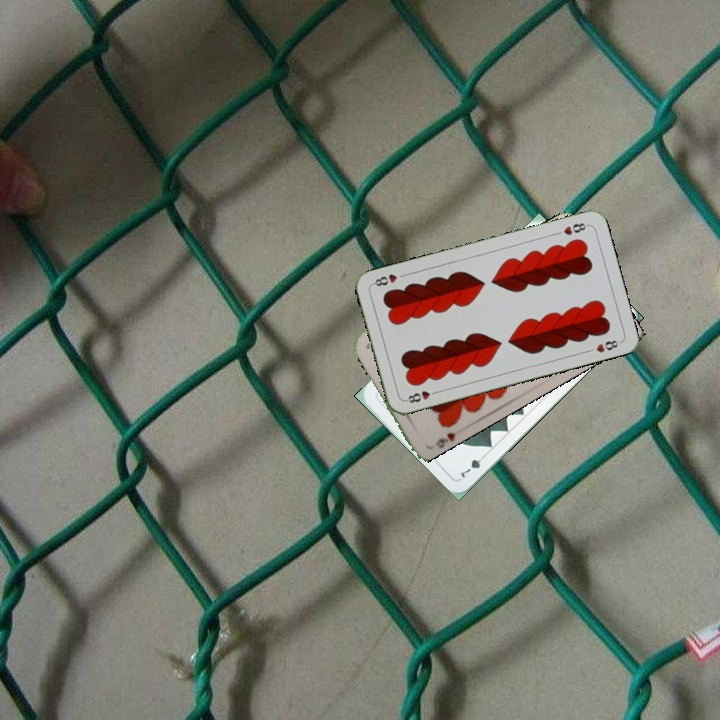G7: (457, 449, 490, 481)
H8: (401, 386, 441, 406), (559, 219, 591, 238)
H9: (432, 425, 464, 450)
